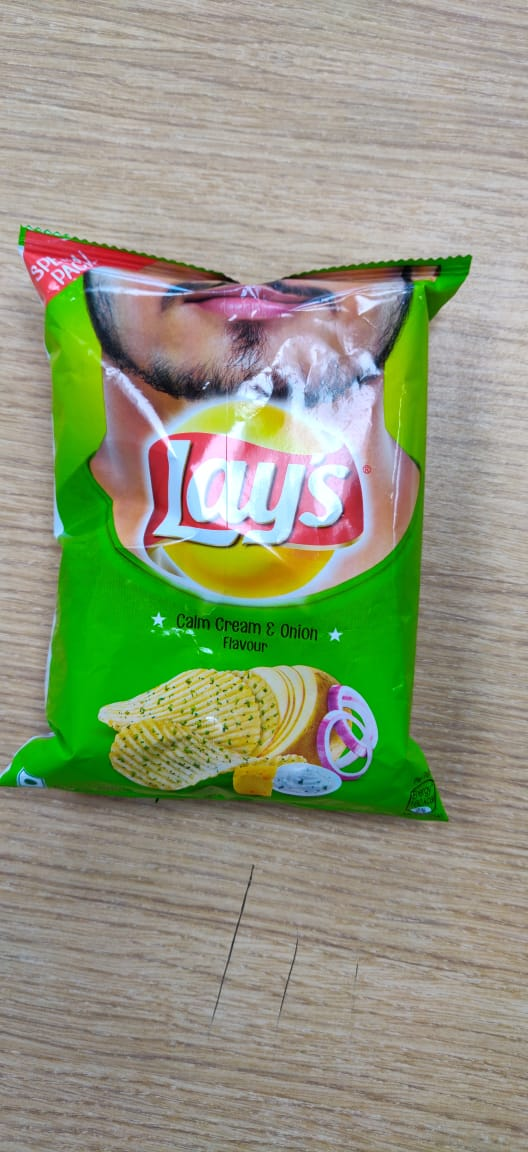lays chips: (6, 211, 487, 867)
